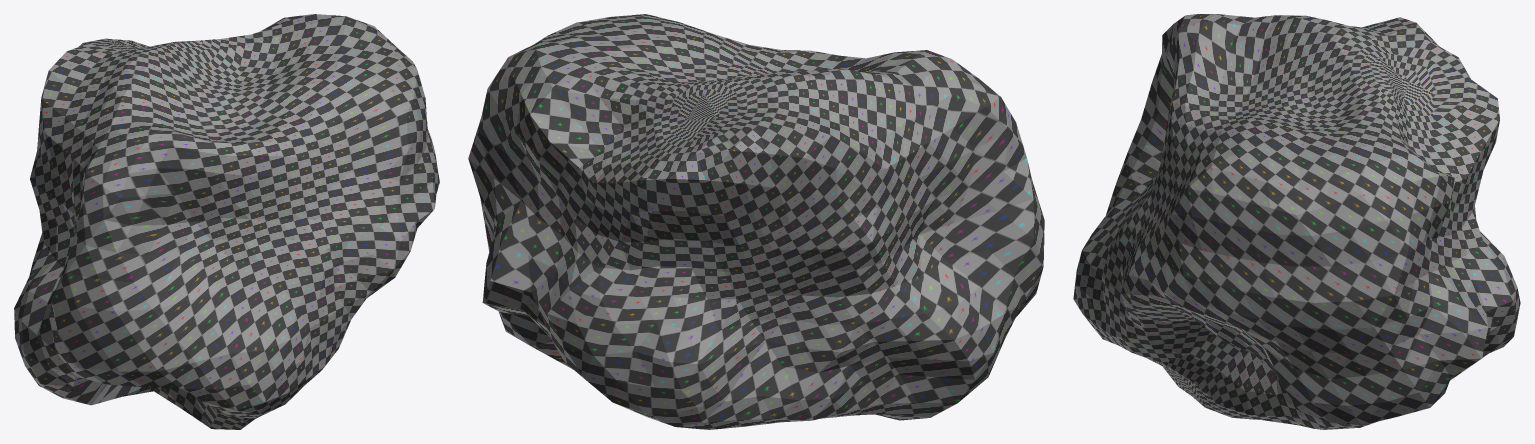
File: asteroid1.obj
3 renders of one model, left to right at view 1: azimuth 30°, elevation 25°; view 2: azimuth 150°, elevation 25°; view 3: azimuth 270°, elevation 25°, orthographic. The views are drawn at different scales.
Parts seen in each view (by area): view 1: Icosphere; view 2: Icosphere; view 3: Icosphere.
Part boxes in pixels (<box>): Icosphere: <box>14,14,439,429</box>; Icosphere: <box>468,14,1044,429</box>; Icosphere: <box>1073,14,1520,429</box>.
Size of the model in its own units: 1.79 by 1.34 by 1.53.
Materials: 1 (1 with a texture image).
